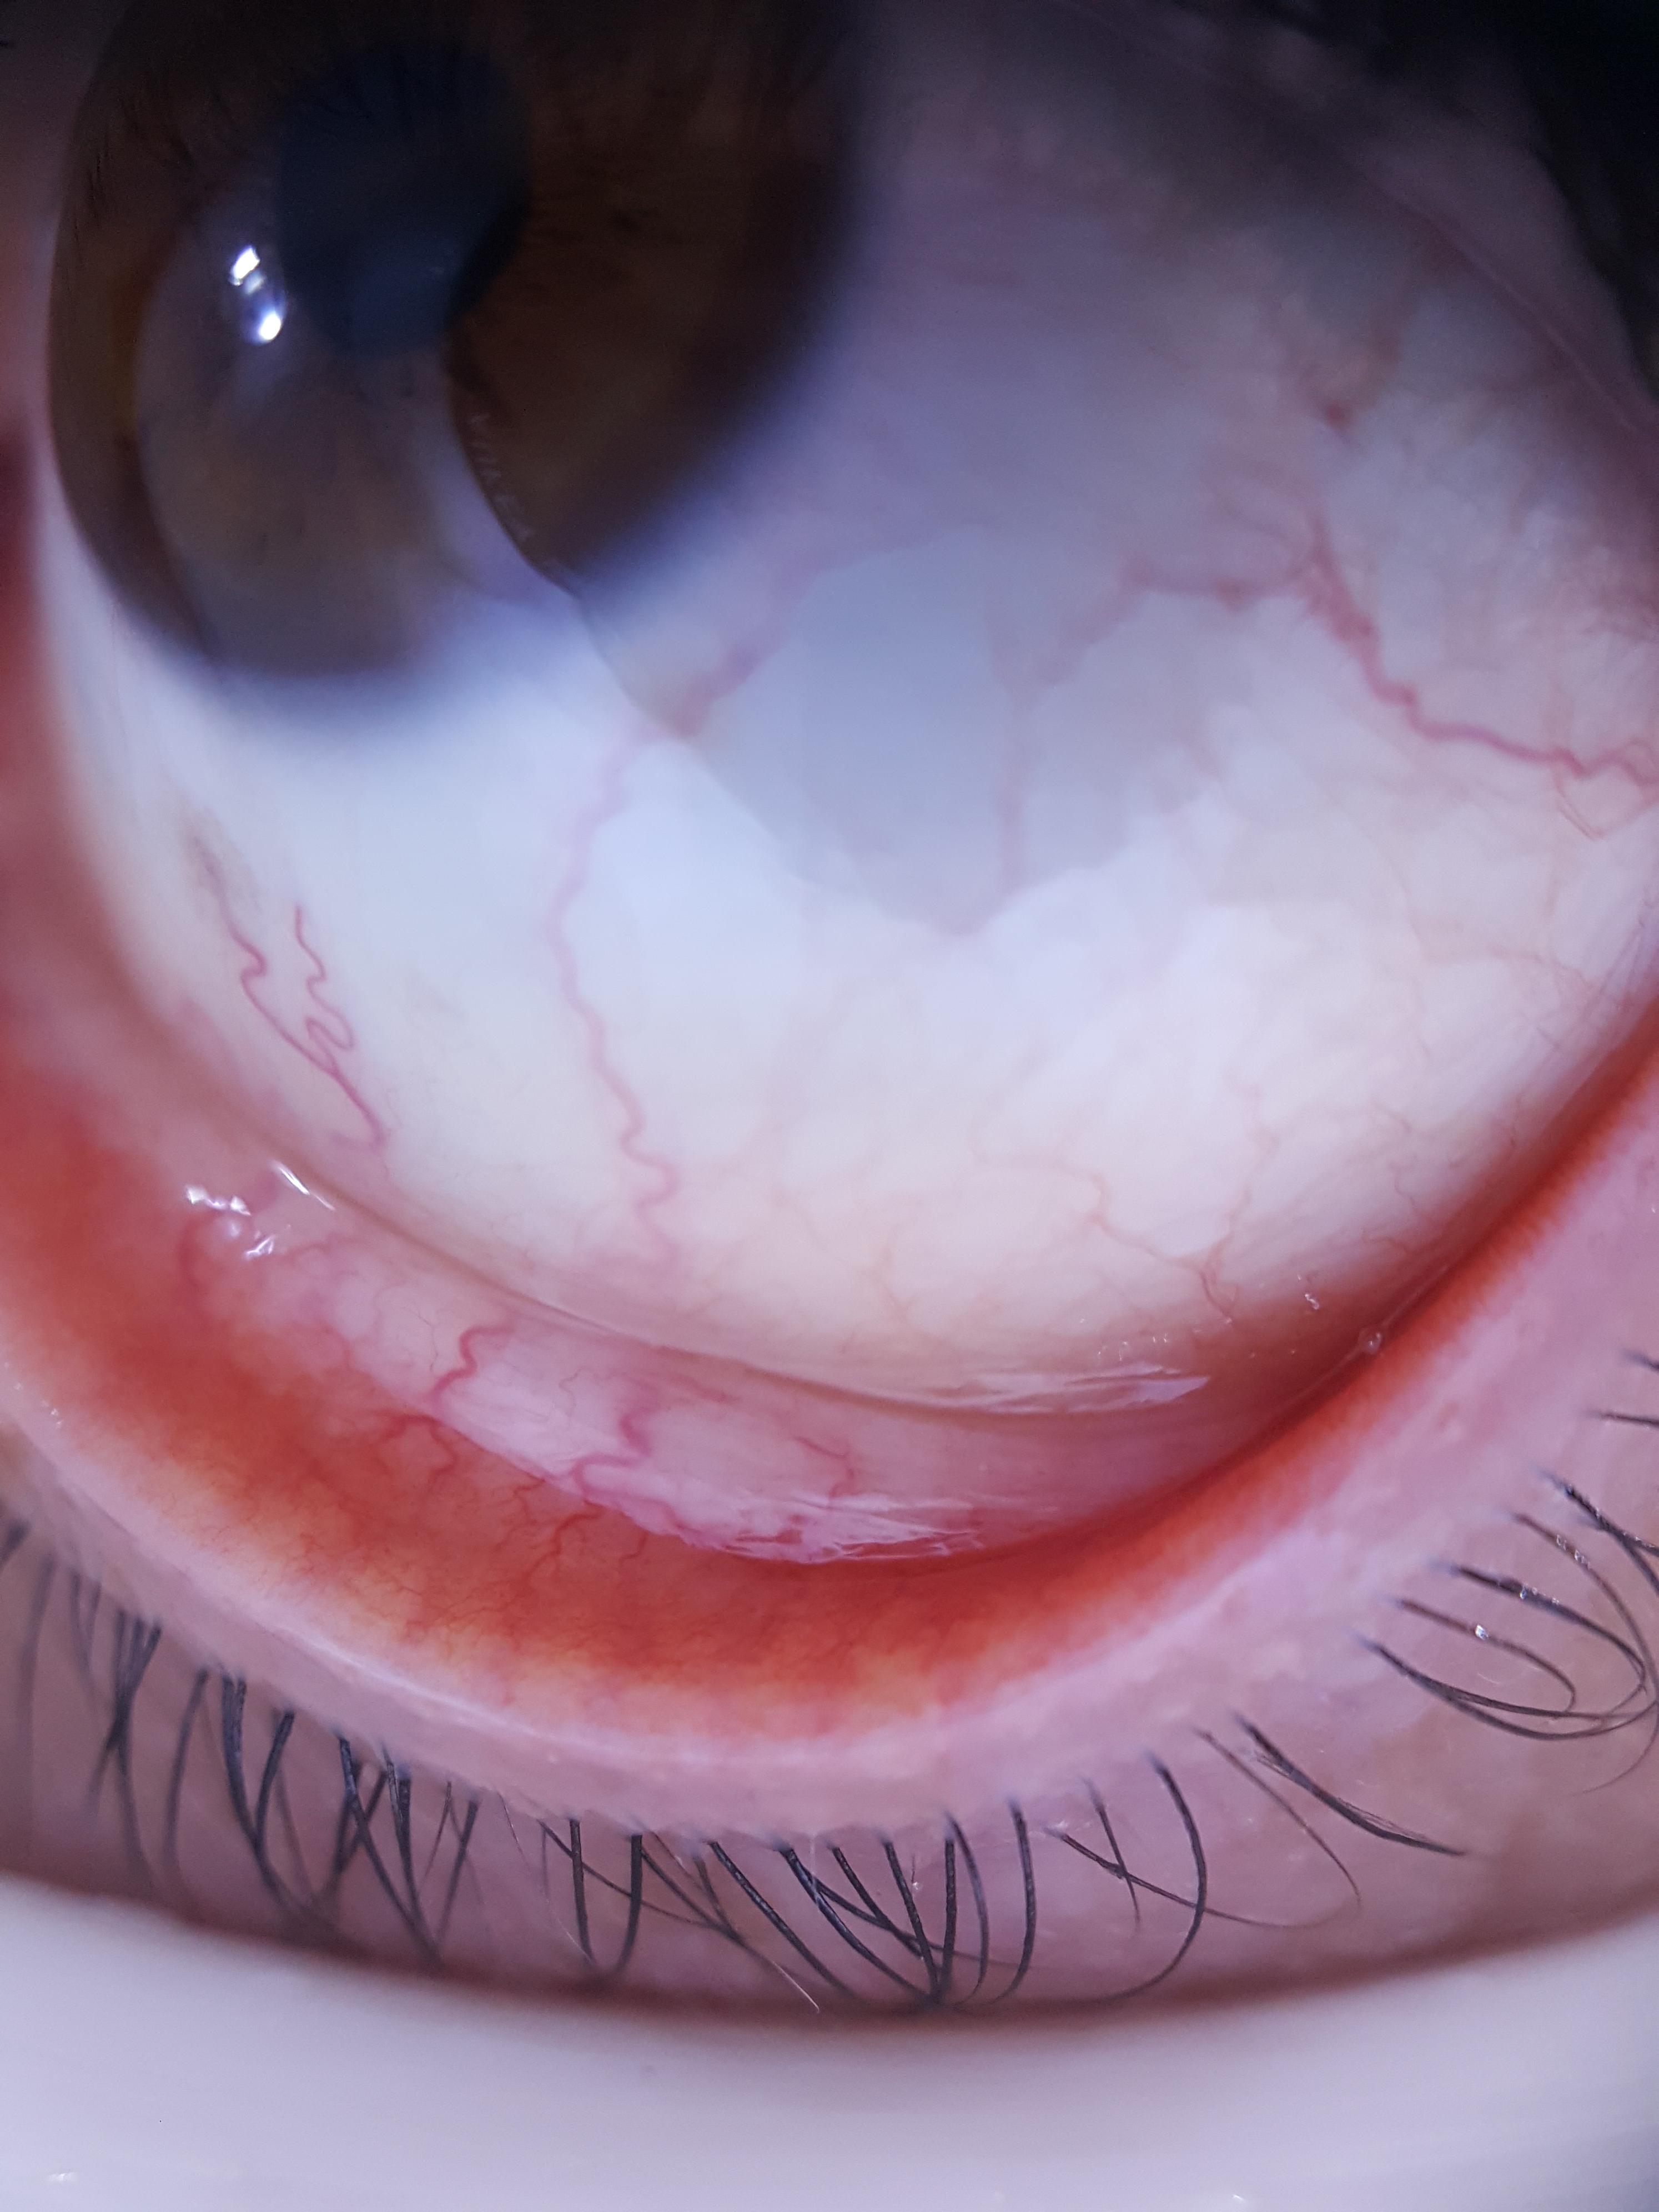forniceal: (5, 1021, 1291, 1562)
forniceal_palpebral: (0, 1007, 1375, 1683)
palpebral: (0, 1024, 1366, 1674)
